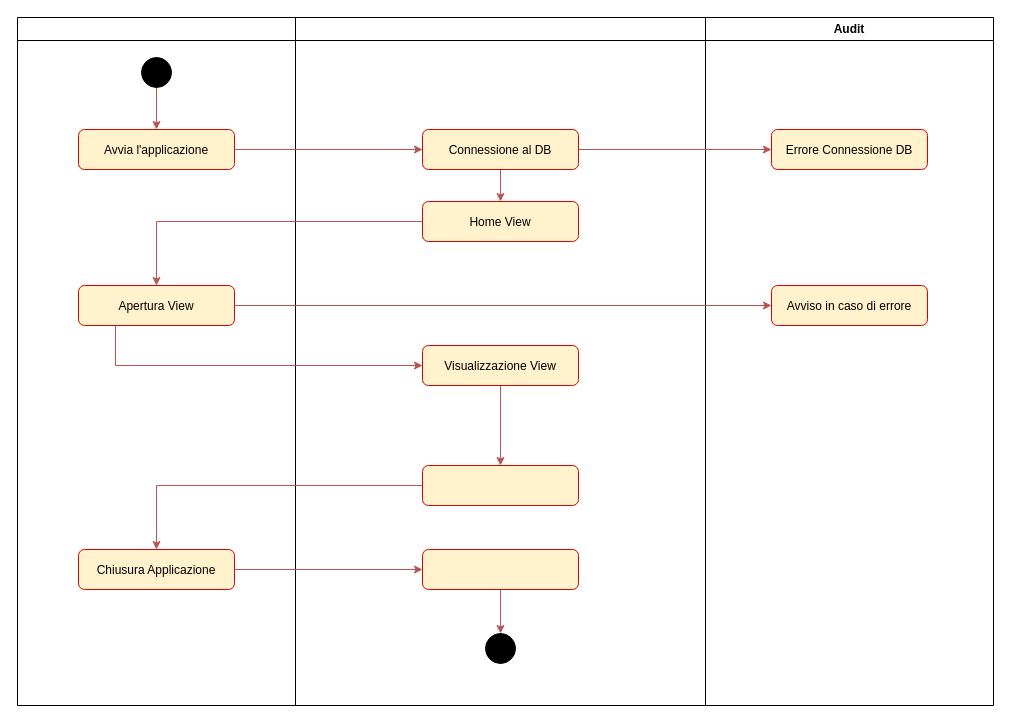
The diagram is 1011 pixels wide and 723 high, and some of its shapes have lost their labels. Each missing label, with the box of its shape:
Application: (294, 16, 706, 706)
Chiusura connessione DB: (422, 548, 578, 590)
Operazioni: (422, 464, 578, 506)
User: (16, 16, 296, 706)
